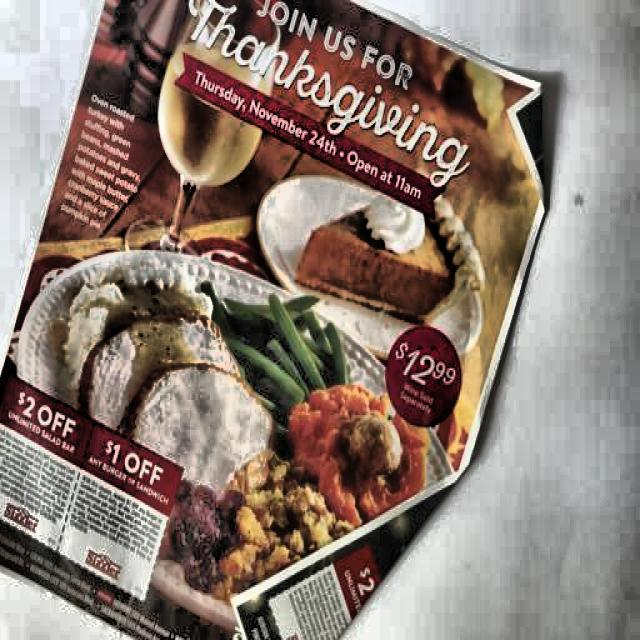paper: (36, 3, 554, 633)
